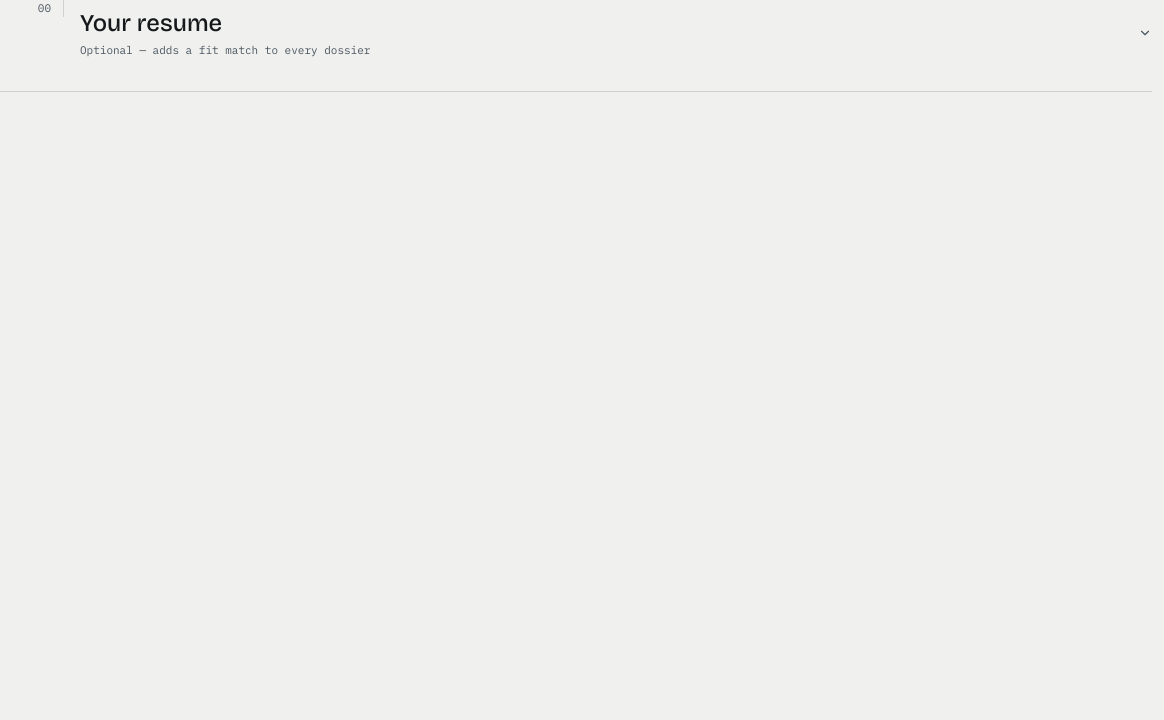
Test: ResumePanel — account region (reactive) › opens the sign-in form inline from the Sign in button
The width and height of the screenshot is (1164, 720).
Click the button "Your resume Optional — adds a fit match to every dossier". click: (151, 23)
box: [80,0,1152,66]
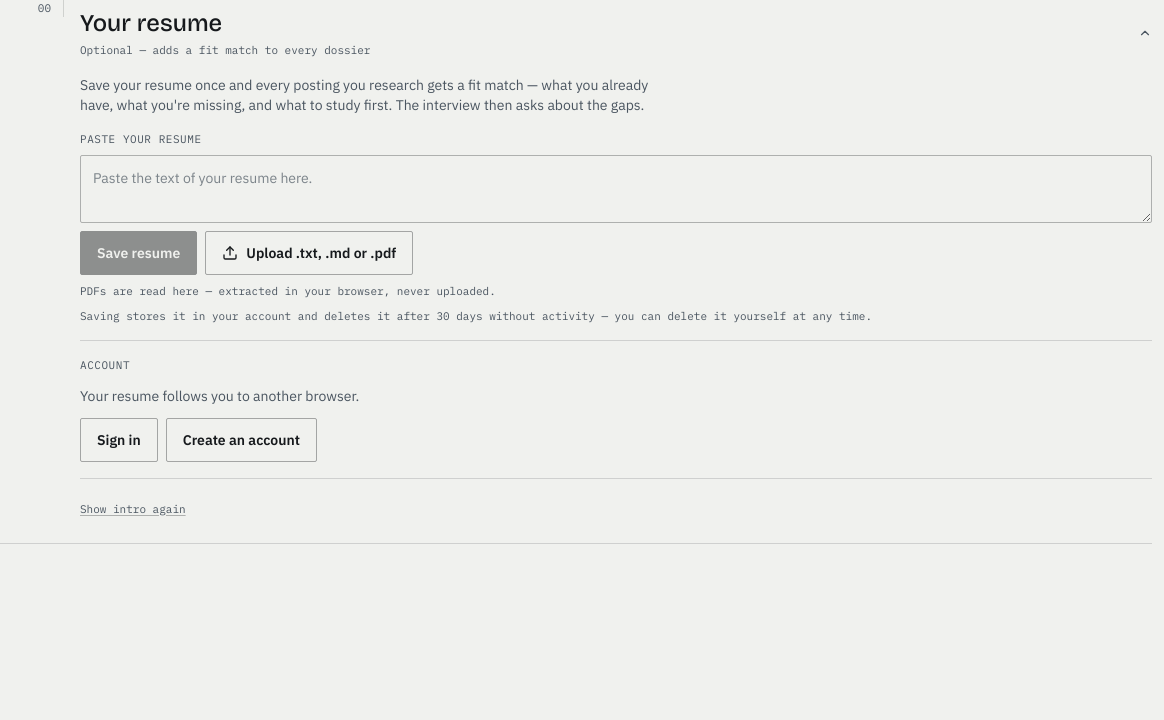
Click the button "Sign in". click: (119, 440)
box: [80,418,158,462]
(page scrolled)
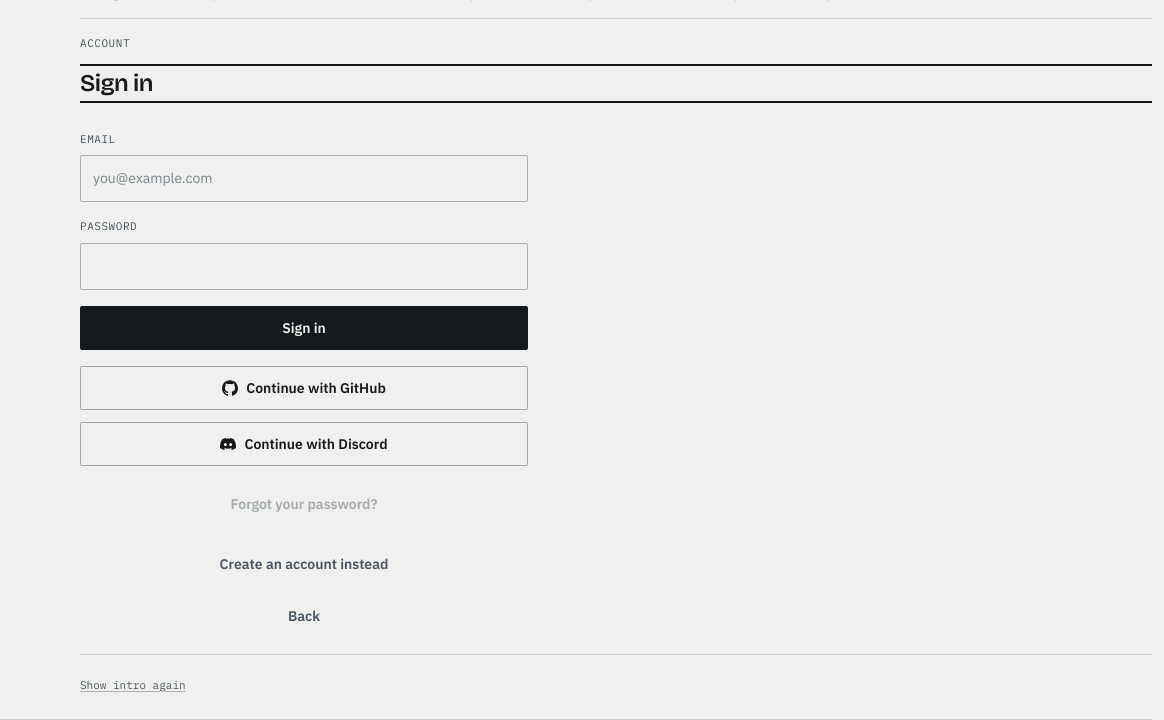
Check: the heading "Sign in" is shown, box [80,68,153,96]
Check: the button "Continue with GitHub" is shown, box [80,366,528,410]
Check: the button "Continue with Discord" is shown, box [80,422,528,466]
